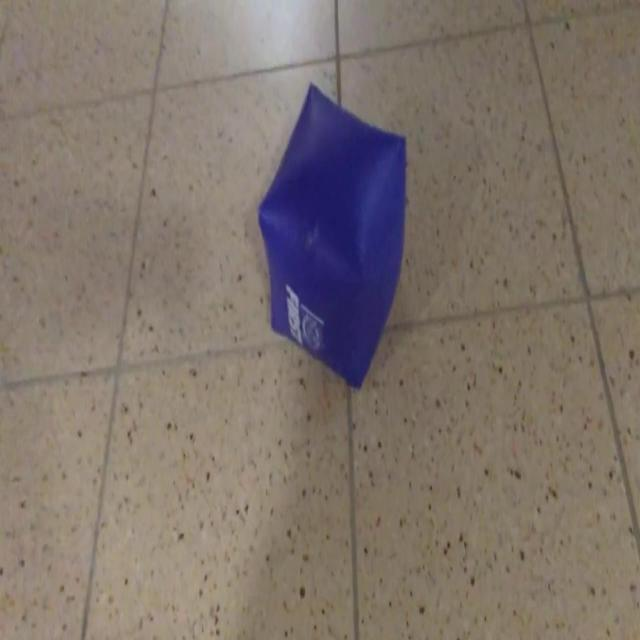frc_cube: (257, 83, 408, 390)
